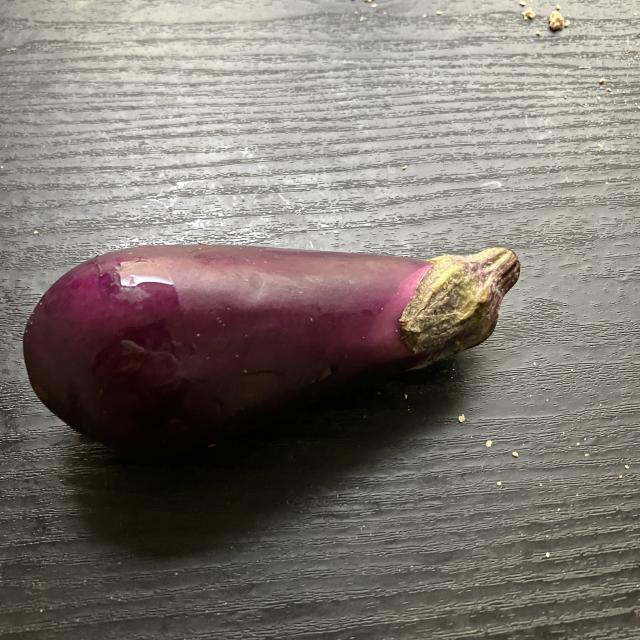eggplant: (22, 240, 526, 444)
